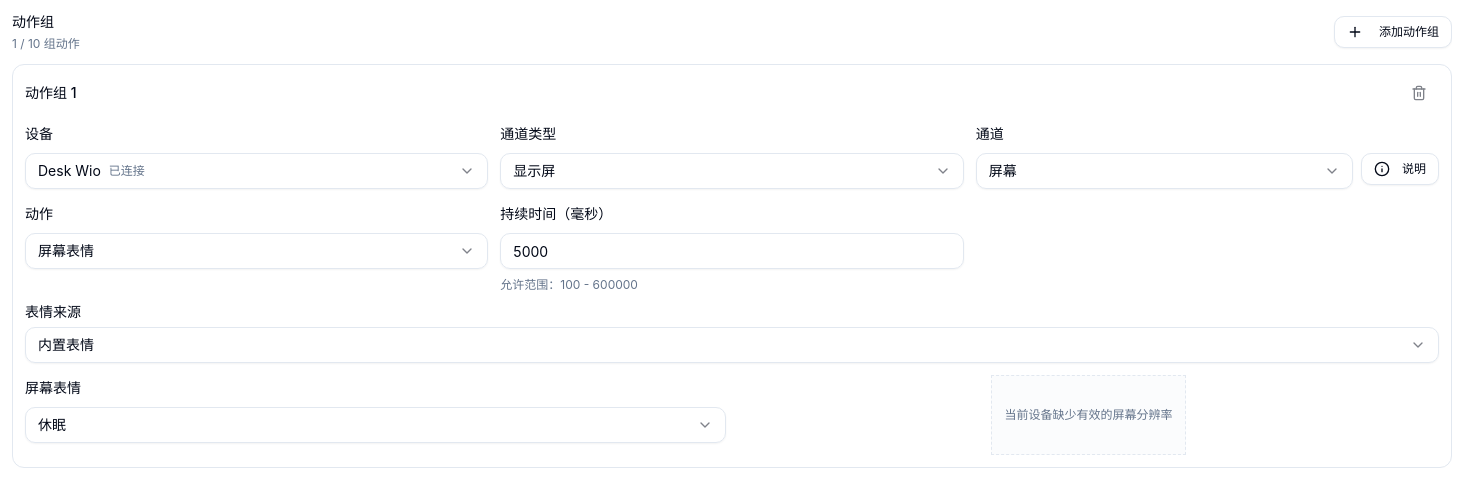
it: DeviceChannelOutputFields › shows device connection status in device selector
What coordinates should you click on to do the following:
click the dropdown named "设备"
I would click on:
 (69, 170)
Its box is [25, 153, 488, 189].
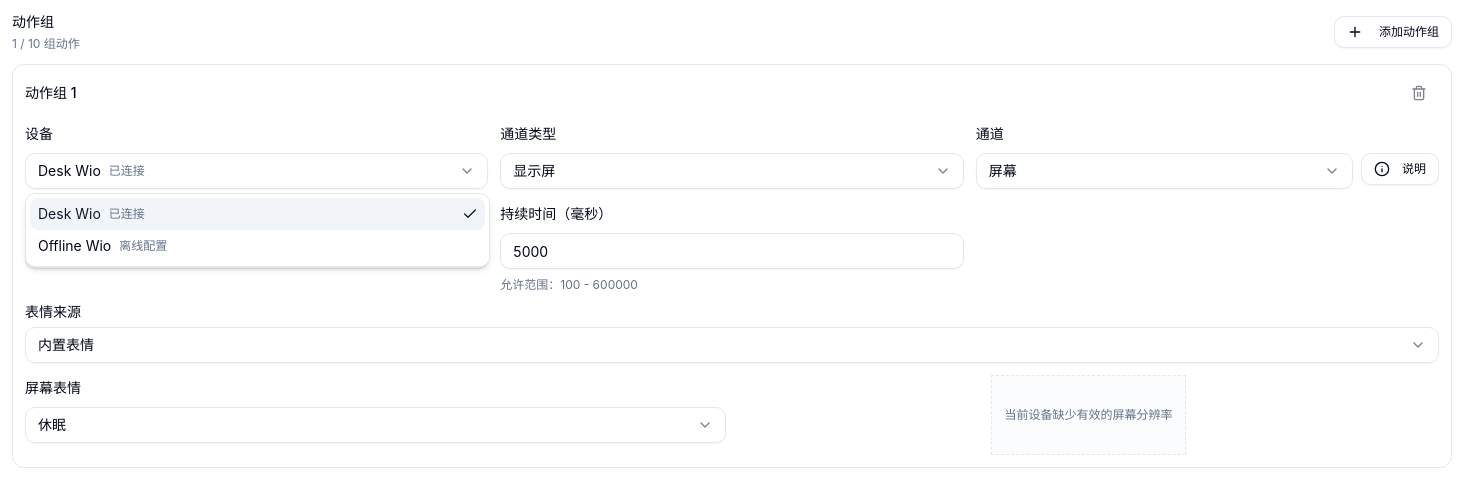
Expected: the option "Desk Wio 已连接" is shown, [30, 198, 485, 230]
Expected: the option "Offline Wio 离线配置" is shown, [38, 237, 167, 254]
